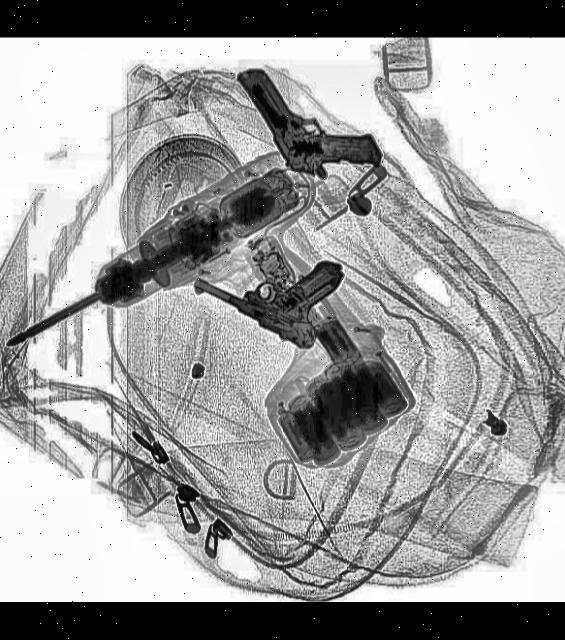Gun: (234, 38, 388, 207), (193, 214, 356, 354)
